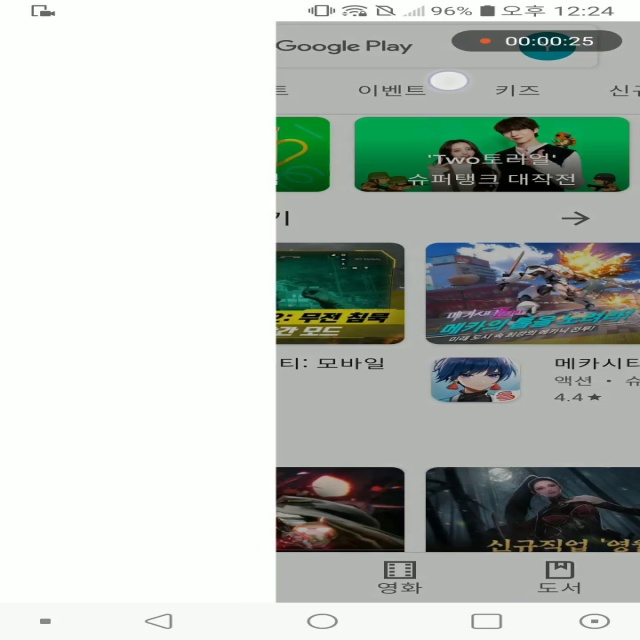Cursor: (427, 71, 472, 93)
